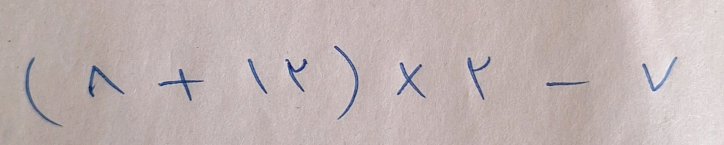character: (23, 55, 68, 130), (329, 42, 361, 124), (462, 54, 497, 103), (157, 66, 204, 102), (640, 56, 681, 96), (85, 64, 129, 99), (393, 59, 429, 101), (283, 54, 318, 97), (244, 58, 272, 97), (543, 77, 595, 93)
